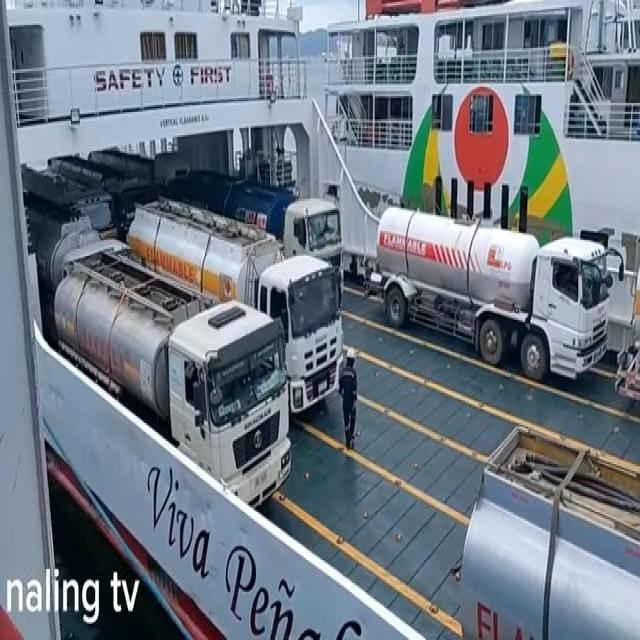truck: (54, 249, 292, 529), (130, 196, 343, 428), (370, 206, 612, 382), (461, 423, 640, 640), (180, 168, 342, 291)
